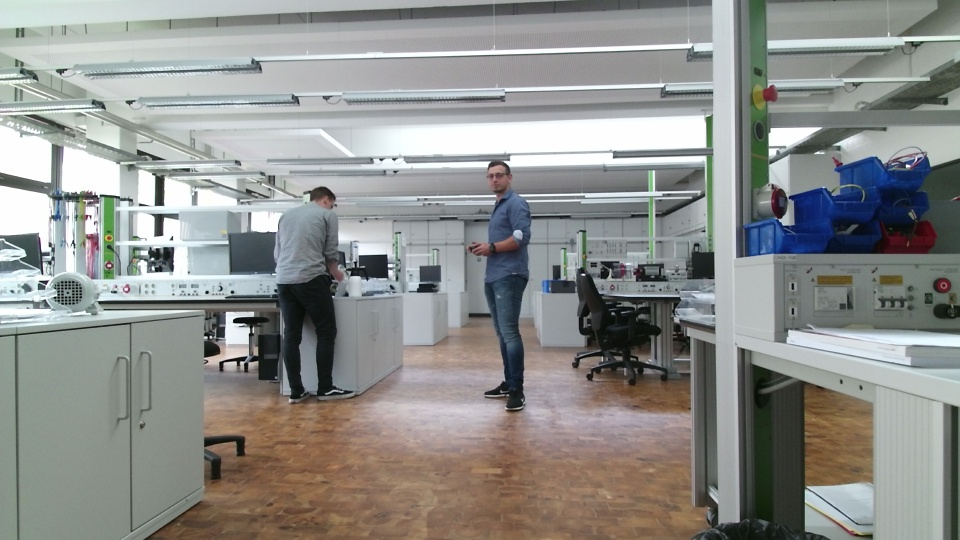Person: (459, 154, 543, 419), (268, 180, 359, 407)
